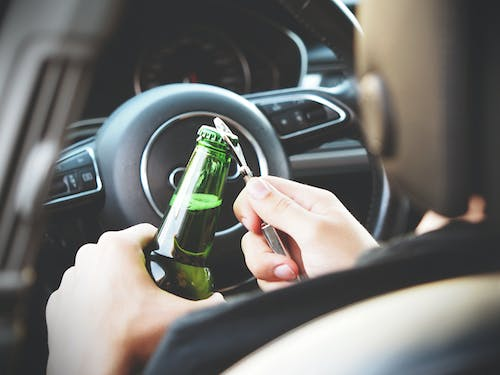alcohol: (142, 123, 239, 301)
